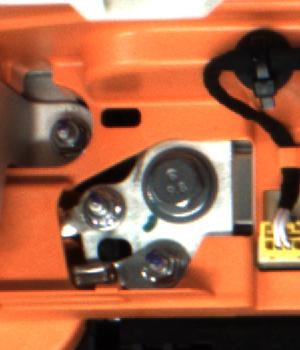nut_b: (142, 142, 221, 219)
screw_s: (77, 187, 125, 225), (140, 242, 181, 284), (44, 117, 81, 151)
